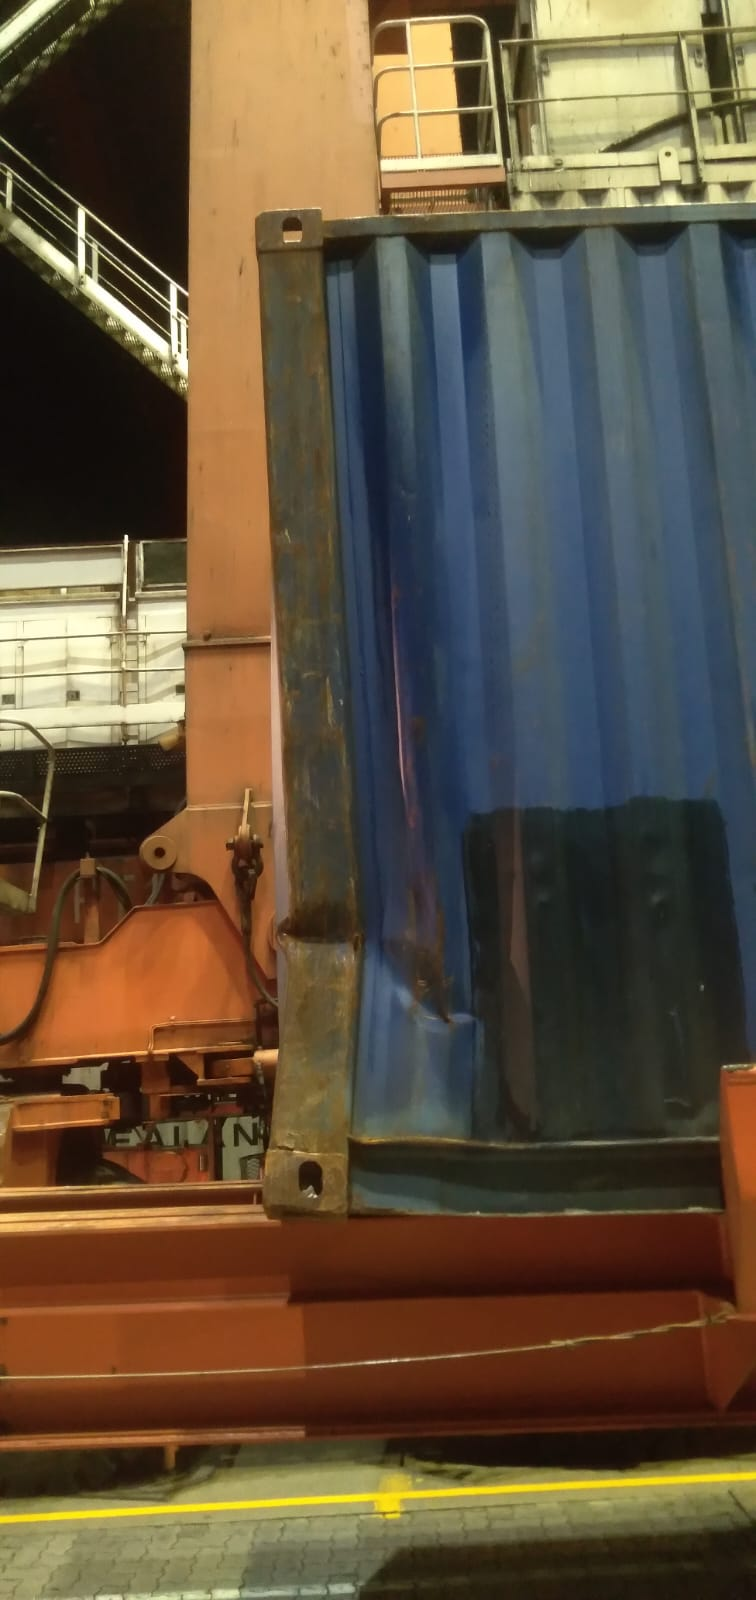bulged: (291, 259, 640, 630)
dented: (279, 828, 499, 1135)
